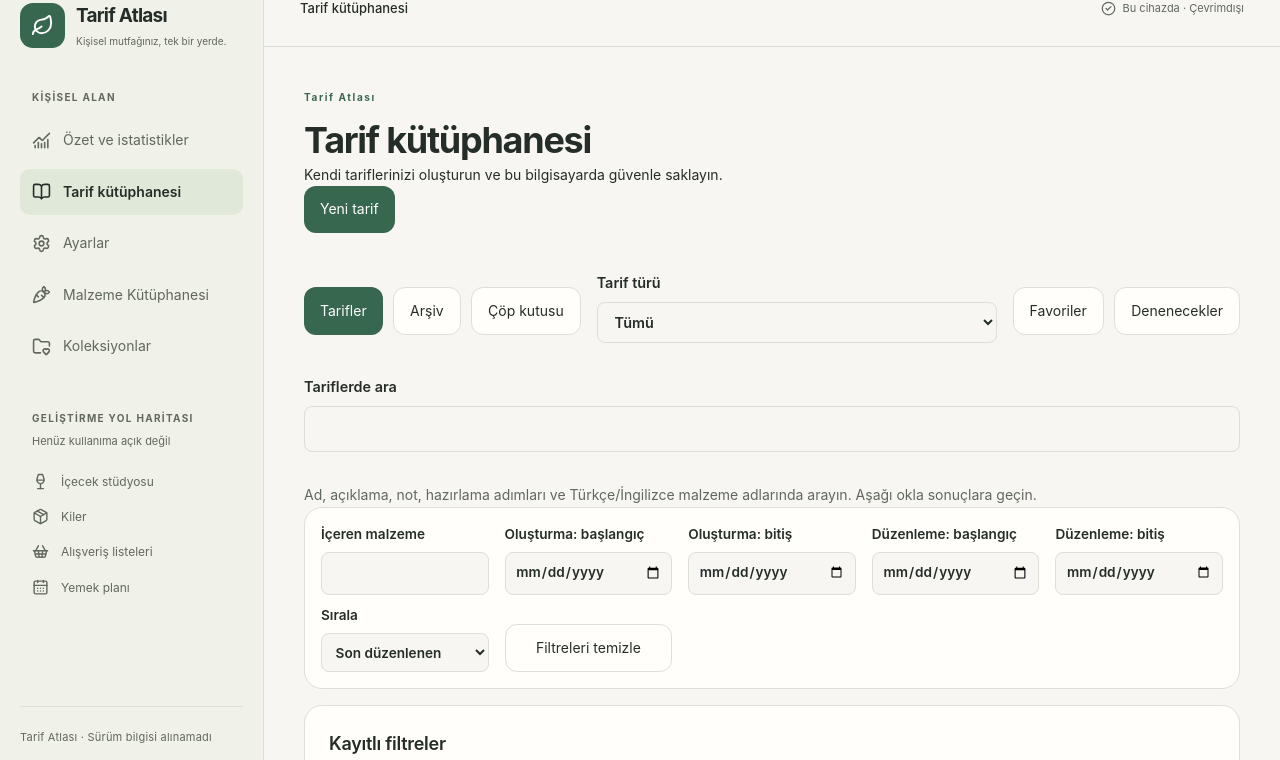
Test case: Turkish navigation, honest upcoming modules and library state
Check: the heading "Tarif kütüphanesi" is shown, box [304,118,591,162]
Check: the text "Henüz kullanıma açık değil" is shown, box [32,434,170,448]
Step 1. Click the button "Ayarlar" → (132, 243), box [20,220,243,267]
(page scrolled)
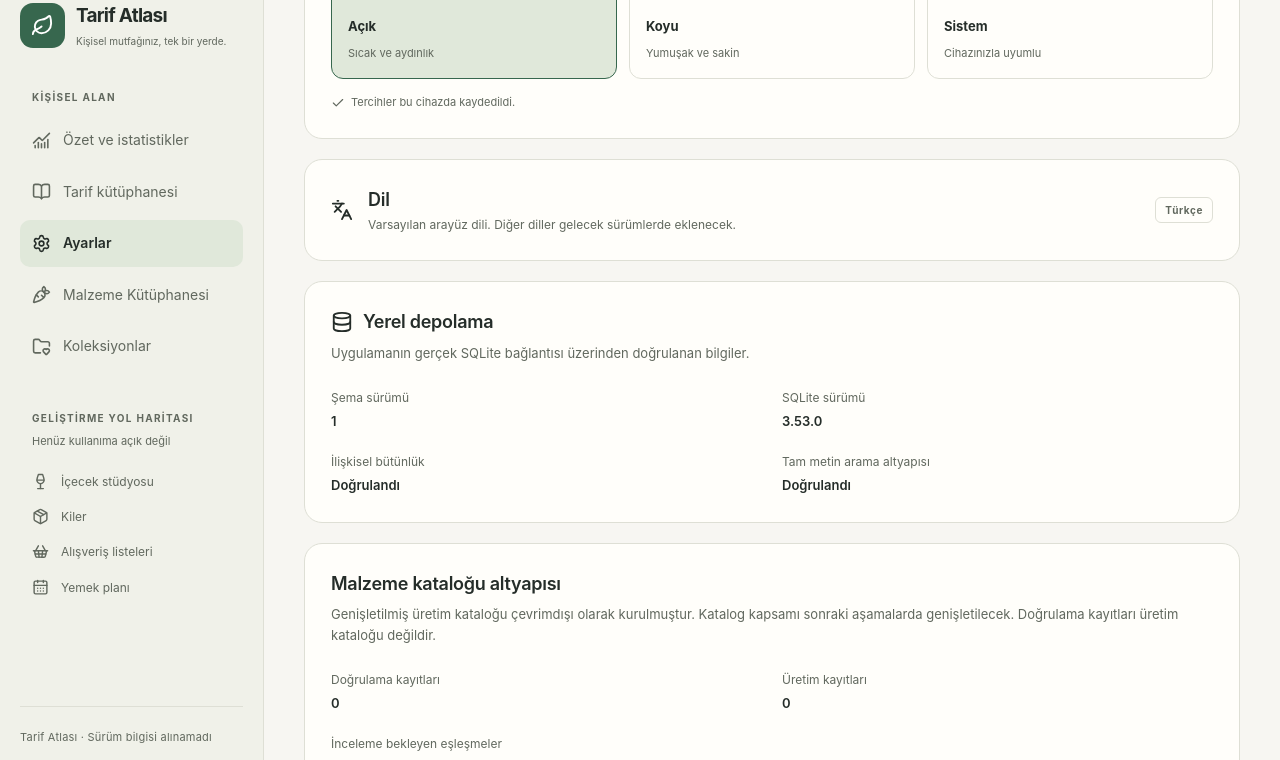
Check: the heading "Yerel depolama" is shown, box [363,308,493,337]
